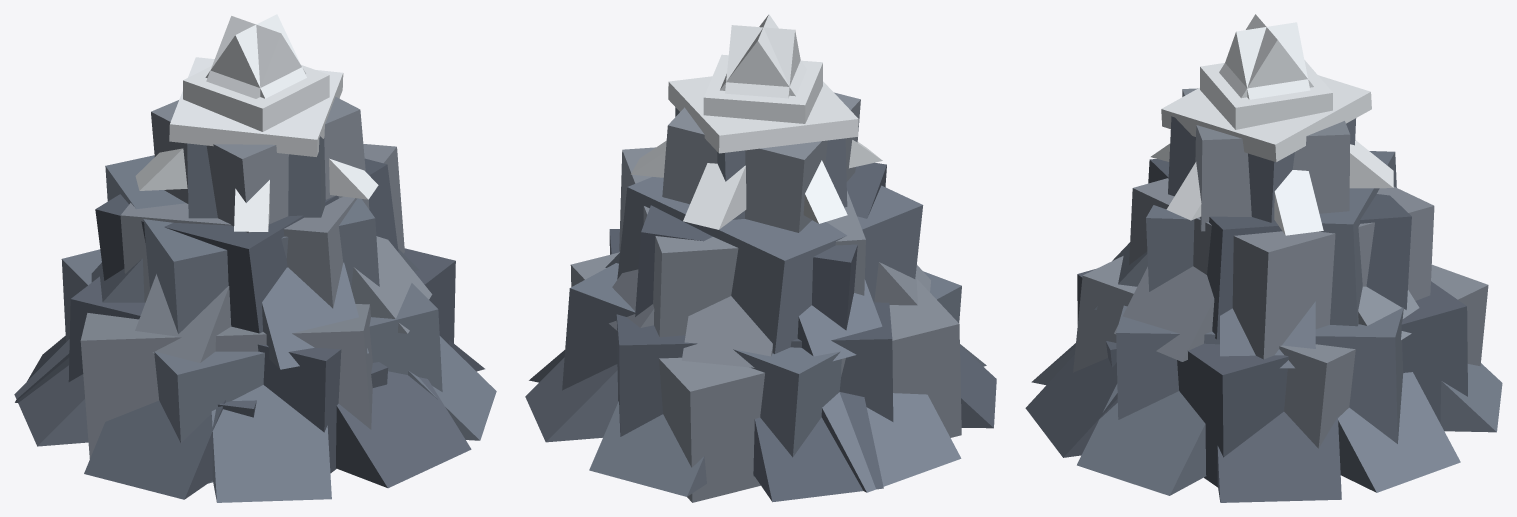
The model's file is mountain.glb.
3 renders of one model, left to right at view 1: azimuth 30°, elevation 25°; view 2: azimuth 150°, elevation 25°; view 3: azimuth 270°, elevation 25°, orthographic.
Parts seen in each view (by area): view 1: Slate__788291, Slate__606876, Slate__8C94A0, Snow__F0F5FA; view 2: Slate__788291, Slate__8C94A0, Slate__606876, Snow__F0F5FA; view 3: Slate__788291, Slate__8C94A0, Slate__606876, Snow__F0F5FA.
Boxes of the visible parts, x1,y1,x2,y2 form: Slate__788291: (14,136,496,502); Slate__606876: (15,158,484,499); Slate__8C94A0: (80,97,432,458); Snow__F0F5FA: (135,14,378,231); Slate__788291: (525,107,986,496); Slate__8C94A0: (570,92,961,502); Slate__606876: (529,162,996,502); Snow__F0F5FA: (631,14,882,229); Slate__788291: (1031,116,1502,495); Slate__8C94A0: (1073,88,1488,448); Slate__606876: (1025,159,1467,502); Snow__F0F5FA: (1151,14,1393,235).
Bounding box in the file's own units: 73.67 × 66.92 × 73.58.
